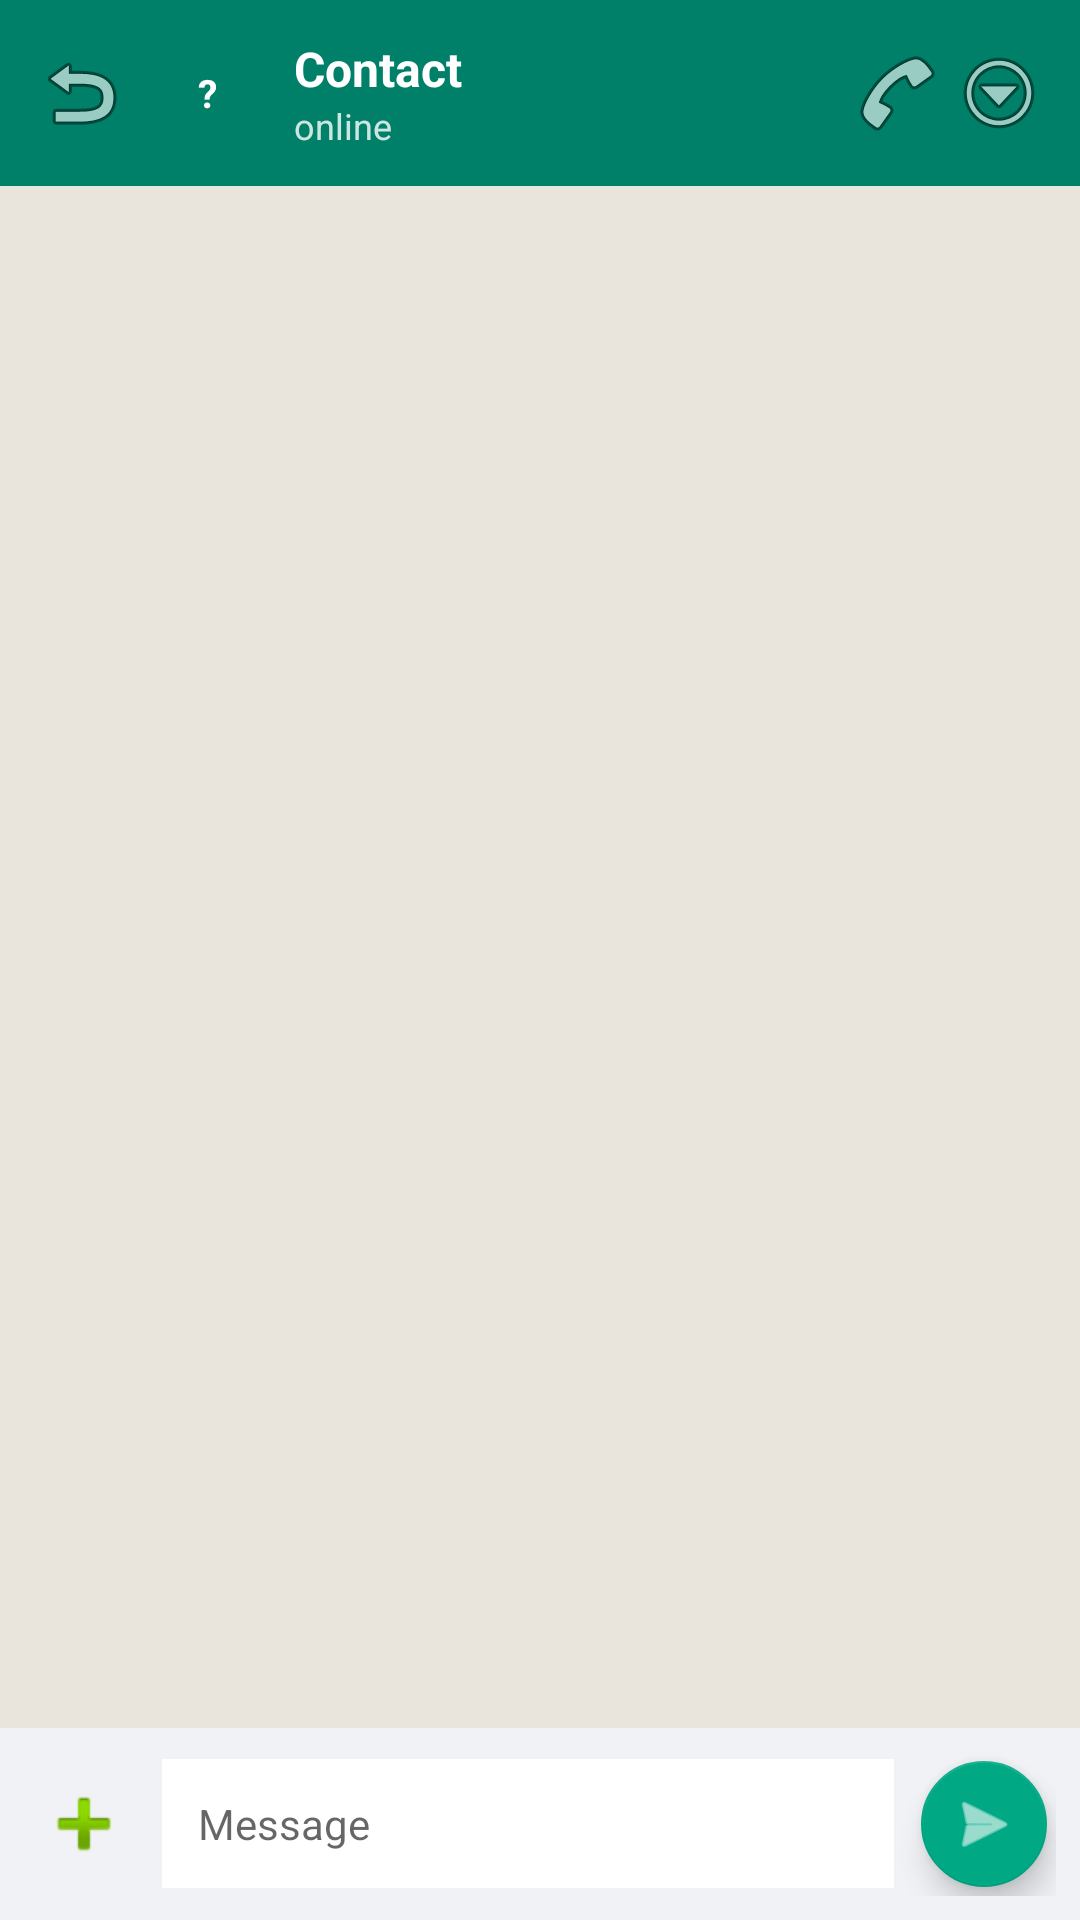

Named icons in this screenshot (1080w x 1920h) and their centers, (x,y):
Attach: (84,1824)
Back: (82,94)
Menu: (999,93)
Send: (985,1828)
Start Call: (897,93)
